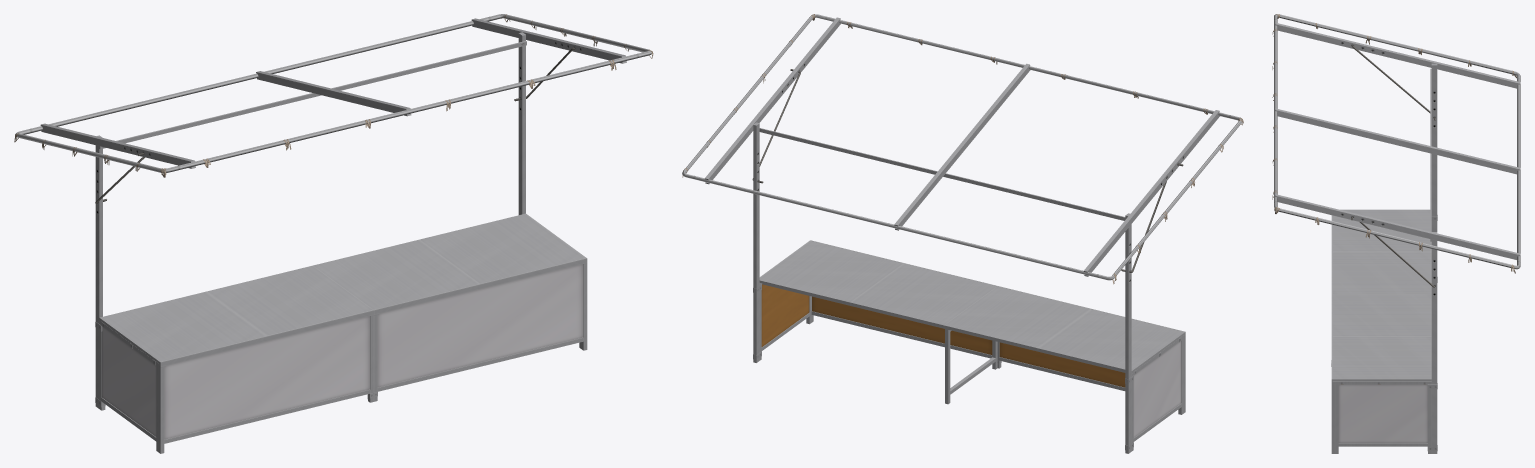
Rendered from jsf_2P_s04_c04_t01.fbx.
3 views of the same model, side by side, from view 1: azimuth 30°, elevation 25°; view 2: azimuth 150°, elevation 25°; view 3: azimuth 270°, elevation 25° (orthographic). The views are drawn at different scales.
Visible parts, largest first — view 1: Base_s04_c04, Table_2P_s04_t01, Pillar2_s04, Rope_2P_s04; view 2: Table_2P_s04_t01, Pillar2_s04, Base_s04_c04, Support; view 3: Table_2P_s04_t01, Pillar2_s04, Base_s04_c04, Rope_2P_s04.
Boxes of the visible parts, box(x1,y1,x2,y2) form: Base_s04_c04: box(95, 258, 587, 453); Table_2P_s04_t01: box(99, 213, 586, 365); Pillar2_s04: box(15, 14, 651, 408); Rope_2P_s04: box(14, 14, 653, 177); Table_2P_s04_t01: box(759, 240, 1184, 374); Pillar2_s04: box(682, 14, 1242, 453); Base_s04_c04: box(753, 240, 1185, 451); Support: box(945, 329, 997, 404); Table_2P_s04_t01: box(1332, 209, 1431, 384); Pillar2_s04: box(1274, 14, 1520, 453); Base_s04_c04: box(1331, 215, 1437, 453); Rope_2P_s04: box(1272, 14, 1516, 273).
Bounding box in the file's own units: 395 × 244 × 211.
